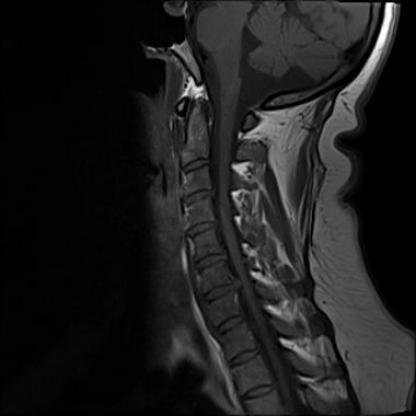Disc Protrusionrotation: (200, 284, 240, 301), (191, 254, 230, 269), (181, 189, 216, 205)
